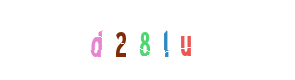2: (81, 0, 161, 80)
8: (107, 0, 187, 80)
D: (76, 0, 156, 80)
L: (111, 0, 191, 80)
U: (138, 0, 218, 80)
